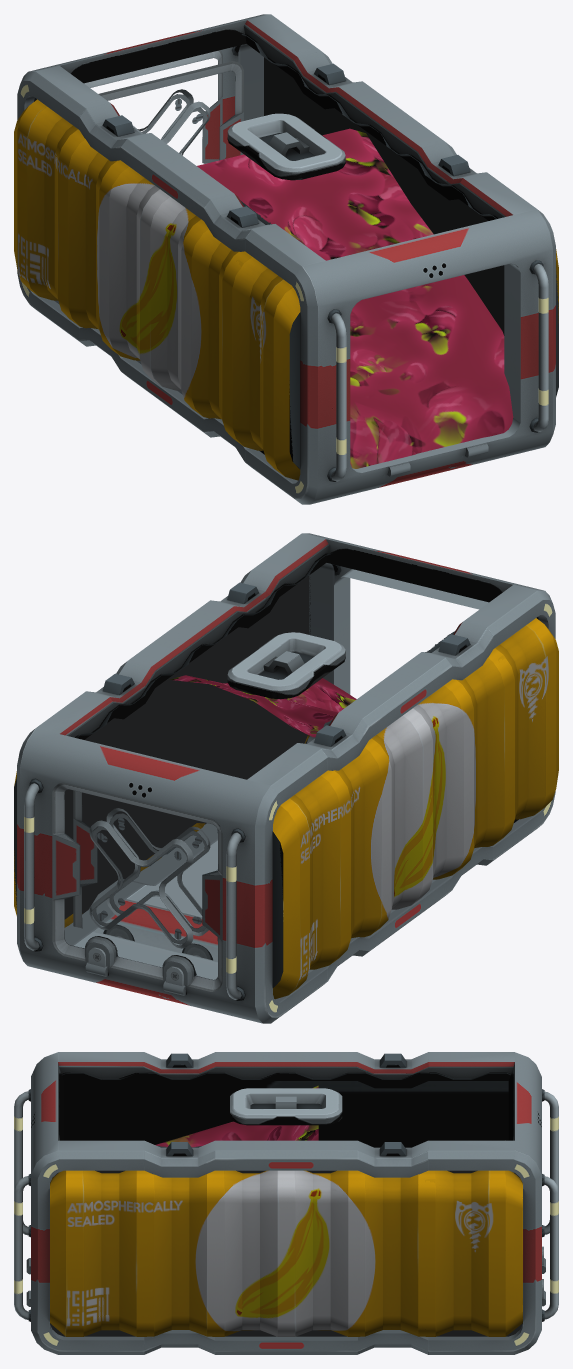
File: env_building_container_beetroot.fbx
3 views of the same model, one above another, from view 1: azimuth 30°, elevation 25°; view 2: azimuth 150°, elevation 25°; view 3: azimuth 270°, elevation 25° (orthographic). The views are drawn at different scales.
Parts seen in each view (by area): view 1: env_building_container_beetroot; view 2: env_building_container_beetroot; view 3: env_building_container_beetroot.
Part boxes in pixels (x1,y1,x2,y2): env_building_container_beetroot: (14, 14, 558, 504); env_building_container_beetroot: (14, 533, 558, 1023); env_building_container_beetroot: (14, 1052, 558, 1354).
Bounding box in the file's own units: 19.98 × 16.24 × 38.9.
